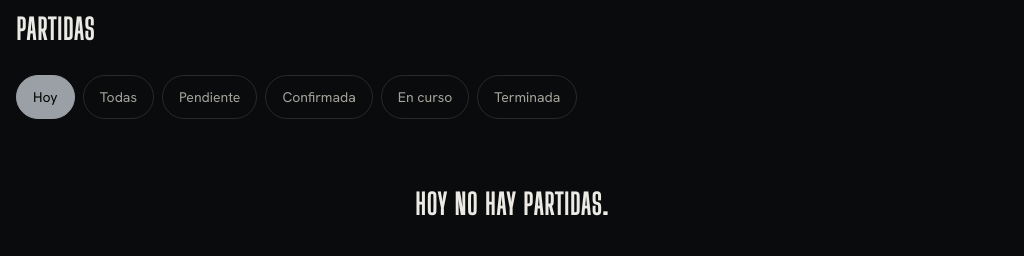
Test case: StaffPlanningPage › "Todas" lists every booking of every date, cancelled left out
Click the button "Todas" at (118, 97), box [83,75,154,119]
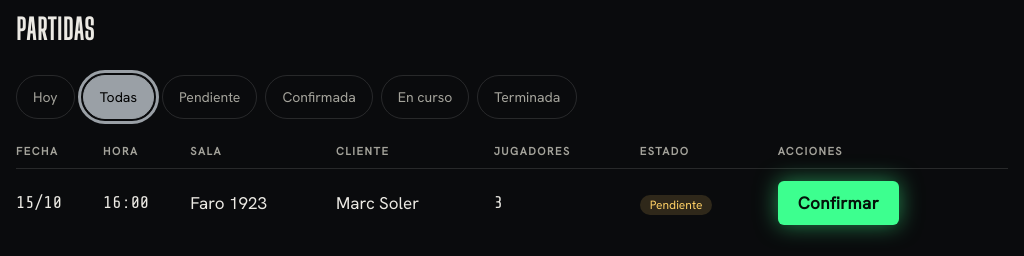
Result: the text "Marc Soler" is shown at [336,169,494,237]
